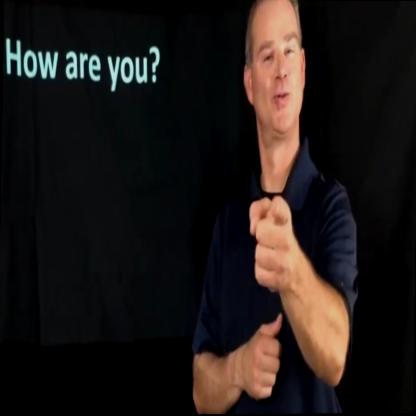HowAreYou: (225, 181, 310, 316)
